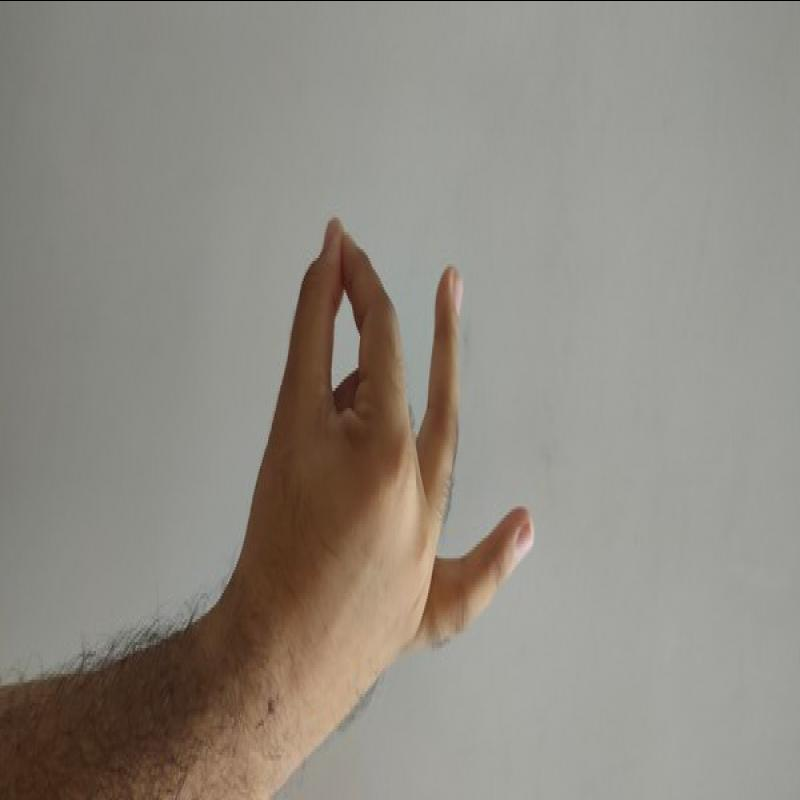Katakam: (204, 207, 559, 723)
